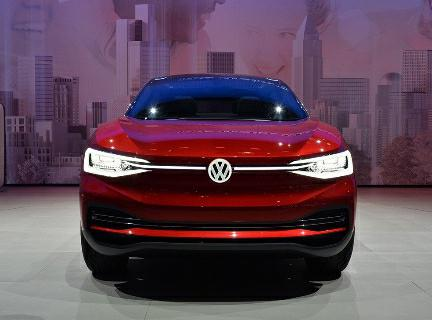大众-IDCrozz: (75, 71, 365, 284)
